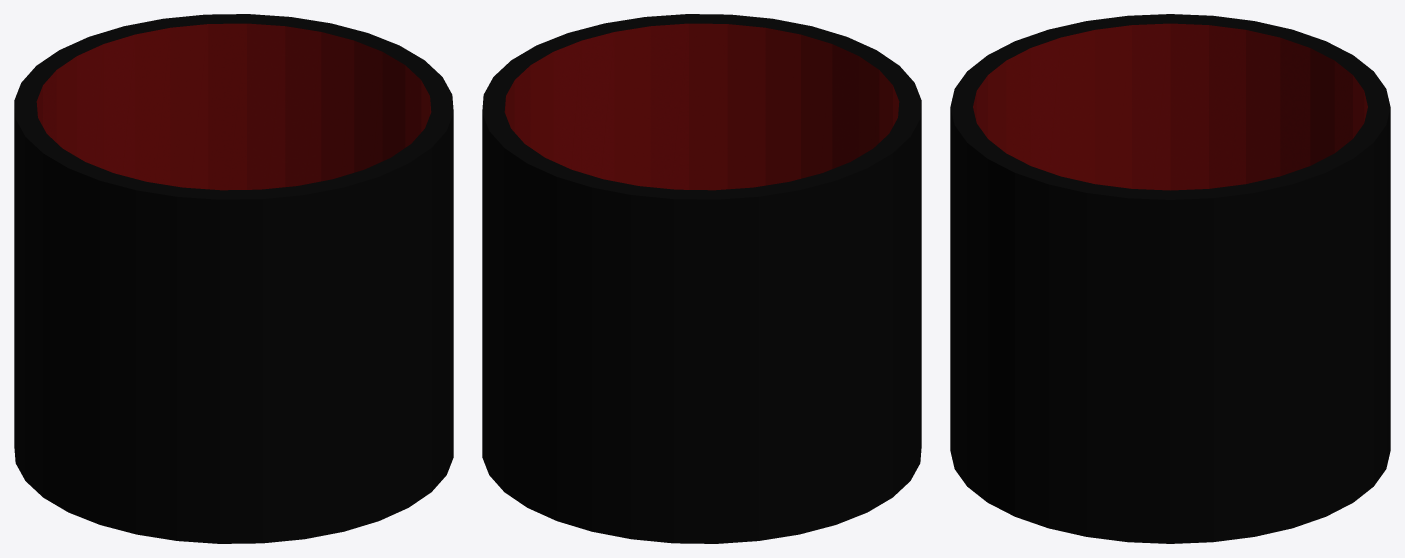
File: cup.glb
3 views of the same model, side by side, from view 1: azimuth 30°, elevation 25°; view 2: azimuth 150°, elevation 25°; view 3: azimuth 270°, elevation 25° (orthographic).
Parts seen in each view (by area): view 1: cup; view 2: cup; view 3: cup.
Part boxes in pixels (<box>): cup: <box>14,14,453,543</box>; cup: <box>482,14,921,543</box>; cup: <box>950,14,1390,543</box>.
Bounding box in the file's own units: 3 × 2.59 × 3.
2 materials, 1 textured.
